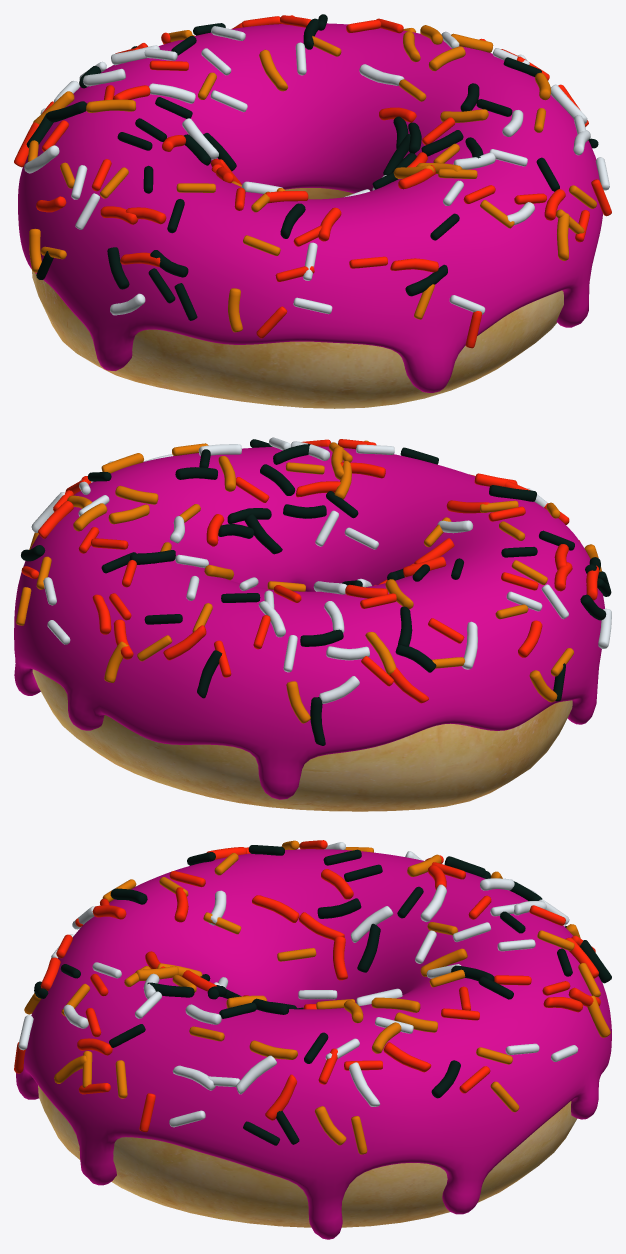
File: Donut_2.glb
The picture shows the model from 3 angles, top to bottom: view 1: azimuth 30°, elevation 25°; view 2: azimuth 150°, elevation 25°; view 3: azimuth 270°, elevation 25°; orthographic projection.
Visible parts, largest first — view 1: Icing.001, Icing, Donut; view 2: Icing.001, Icing, Donut; view 3: Icing.001, Icing, Donut.
Boxes of the visible parts, <box> form: Icing.001: <box>18,23,602,392</box>; Icing: <box>14,14,611,348</box>; Donut: <box>31,188,563,408</box>; Icing.001: <box>14,446,604,799</box>; Icing: <box>16,437,611,745</box>; Donut: <box>32,669,572,811</box>; Icing.001: <box>16,849,611,1239</box>; Icing: <box>14,840,611,1154</box>; Donut: <box>38,1085,577,1227</box>.
Bounding box in the file's own units: 16.75 × 6.77 × 16.46.
Materials: 3 (1 with a texture image).
